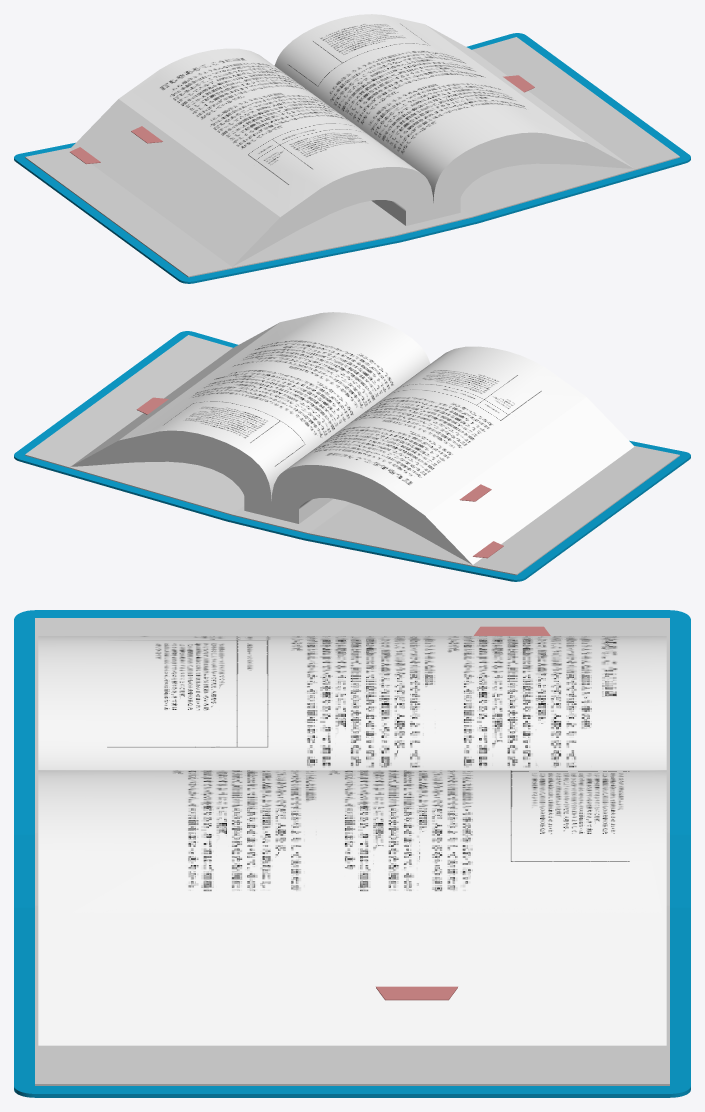
The model's file is 452_パイプ式ファイル中開中身あり.glb.
3 views of the same model, one above another, from view 1: azimuth 30°, elevation 25°; view 2: azimuth 150°, elevation 25°; view 3: azimuth 270°, elevation 25° (orthographic). The views are drawn at different scales.
Parts seen in each view (by area): view 1: 452_pipe_file_M_open_with_contents; view 2: 452_pipe_file_M_open_with_contents; view 3: 452_pipe_file_M_open_with_contents.
Boxes of the visible parts, bbox=[...] form: 452_pipe_file_M_open_with_contents: bbox=[14, 14, 690, 283]; 452_pipe_file_M_open_with_contents: bbox=[14, 312, 690, 581]; 452_pipe_file_M_open_with_contents: bbox=[14, 610, 690, 1097].
Size of the model in its own units: 0.5413 by 0.0758 by 0.32.
7 materials, 1 textured.
